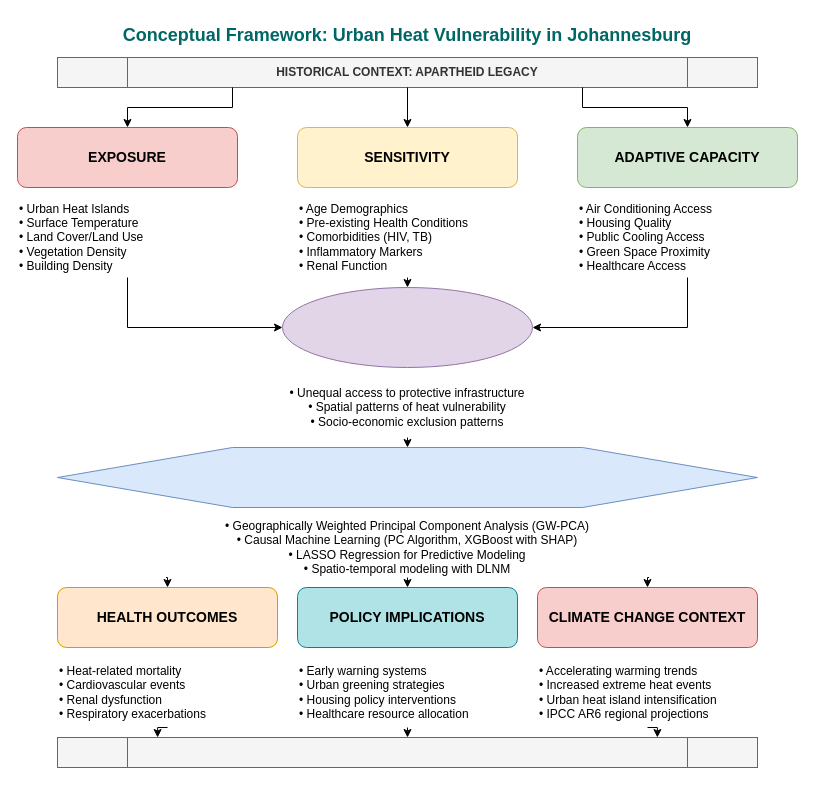
Image size: 815x785. Some labels were removed from this diagram. Here are the shapes that lost their labels. From the top down, the box of each, then its label:
(282, 286, 532, 368): INFRASTRUCTURAL JUSTICE FRAMING
(56, 446, 758, 508): ANALYTICAL APPROACH
(56, 736, 758, 768): JOHANNESBURG CONTEXT
